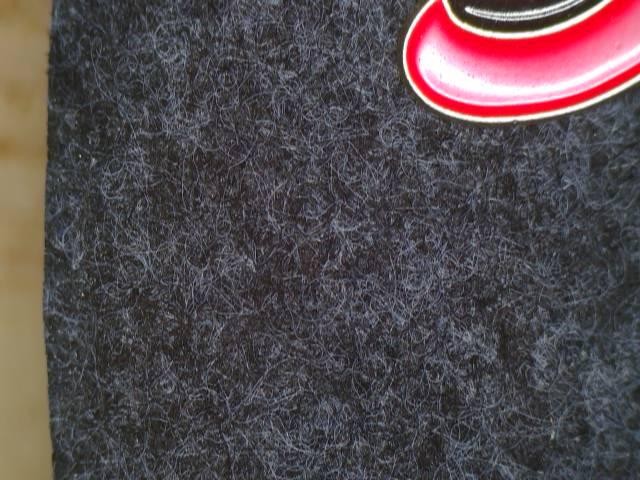Red-Hat: (402, 0, 640, 162)
